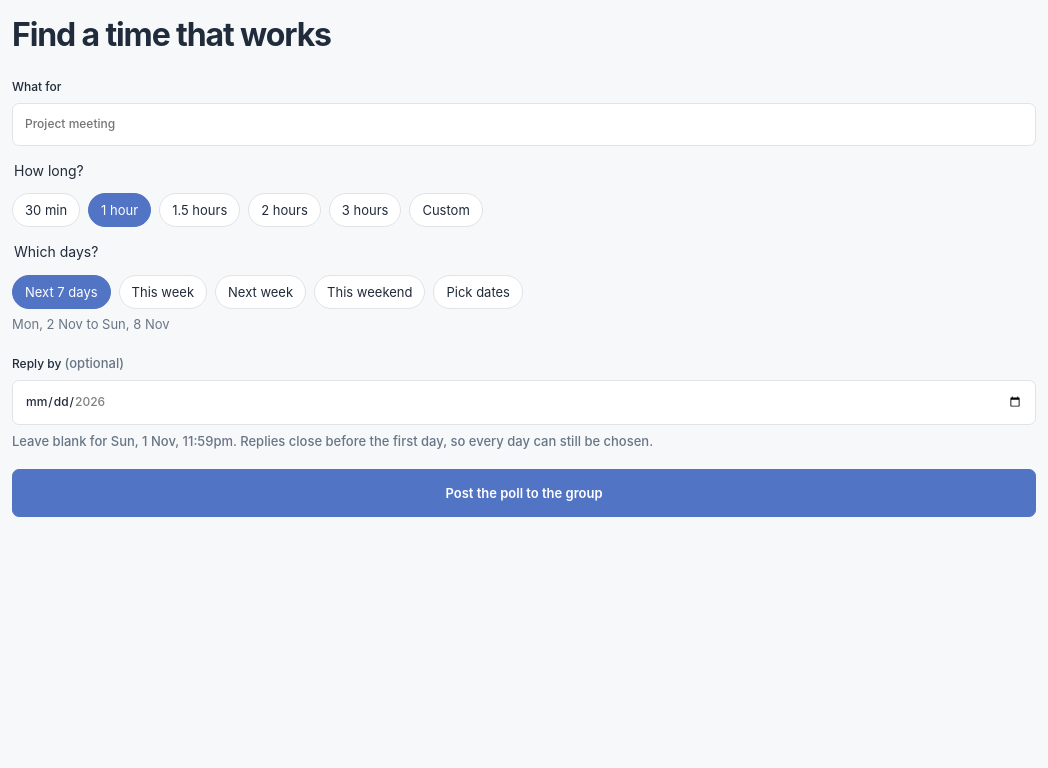
FindTime › explains the short reply time when the first day is today
Step 1. Click the button "Pick dates" → (478,292), box x1=434 y1=275 x2=523 y2=309
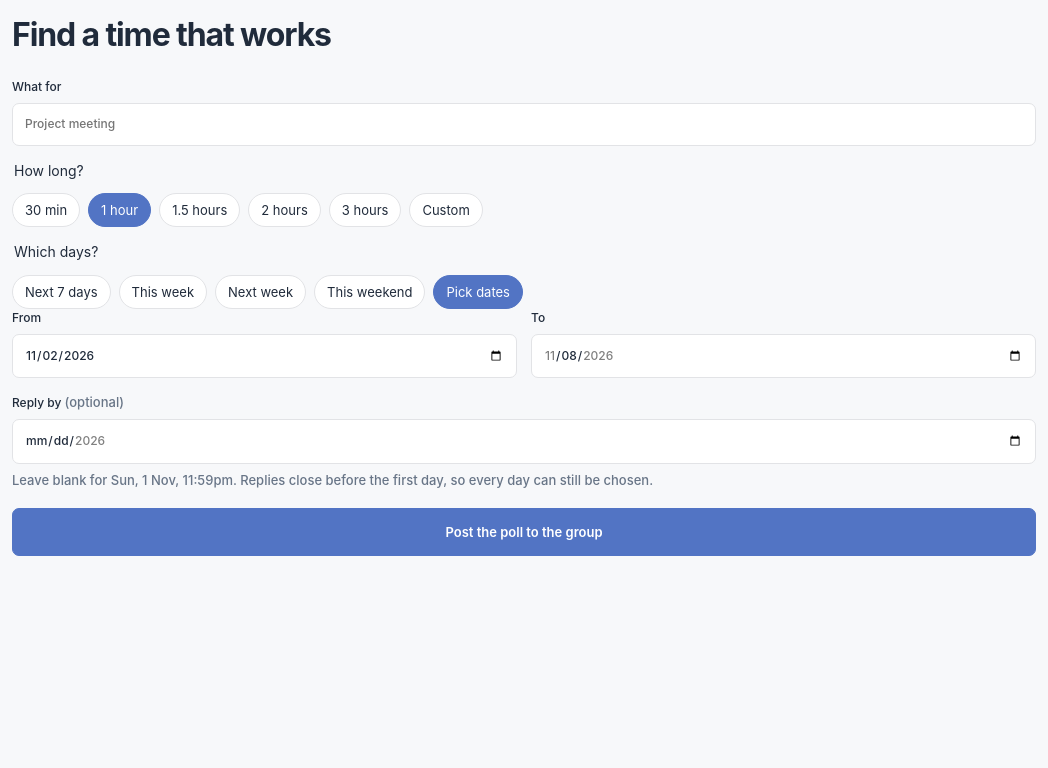
Step 2. Type "2026-10-31" into the date field labelled "From" → (264,356), box x1=12 y1=334 x2=517 y2=378
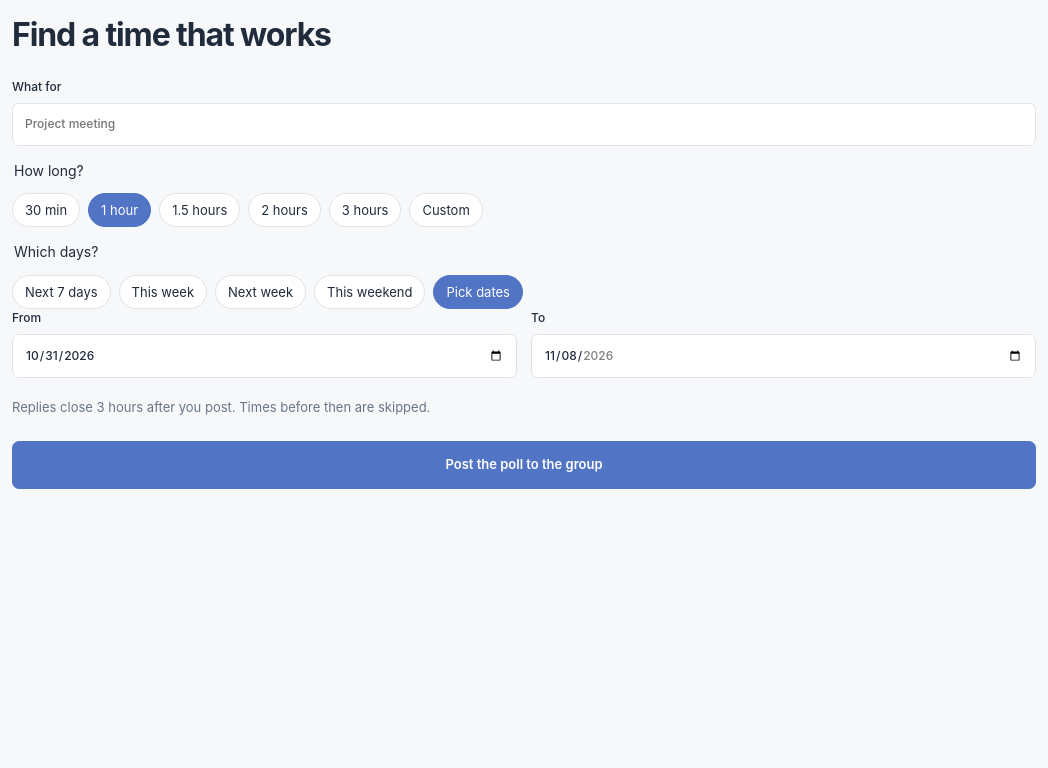
expect the field labelled "Reply by" is gone: met
expect the text "Replies close 3 hours after you post" is shown: met, box x1=12 y1=399 x2=430 y2=415
